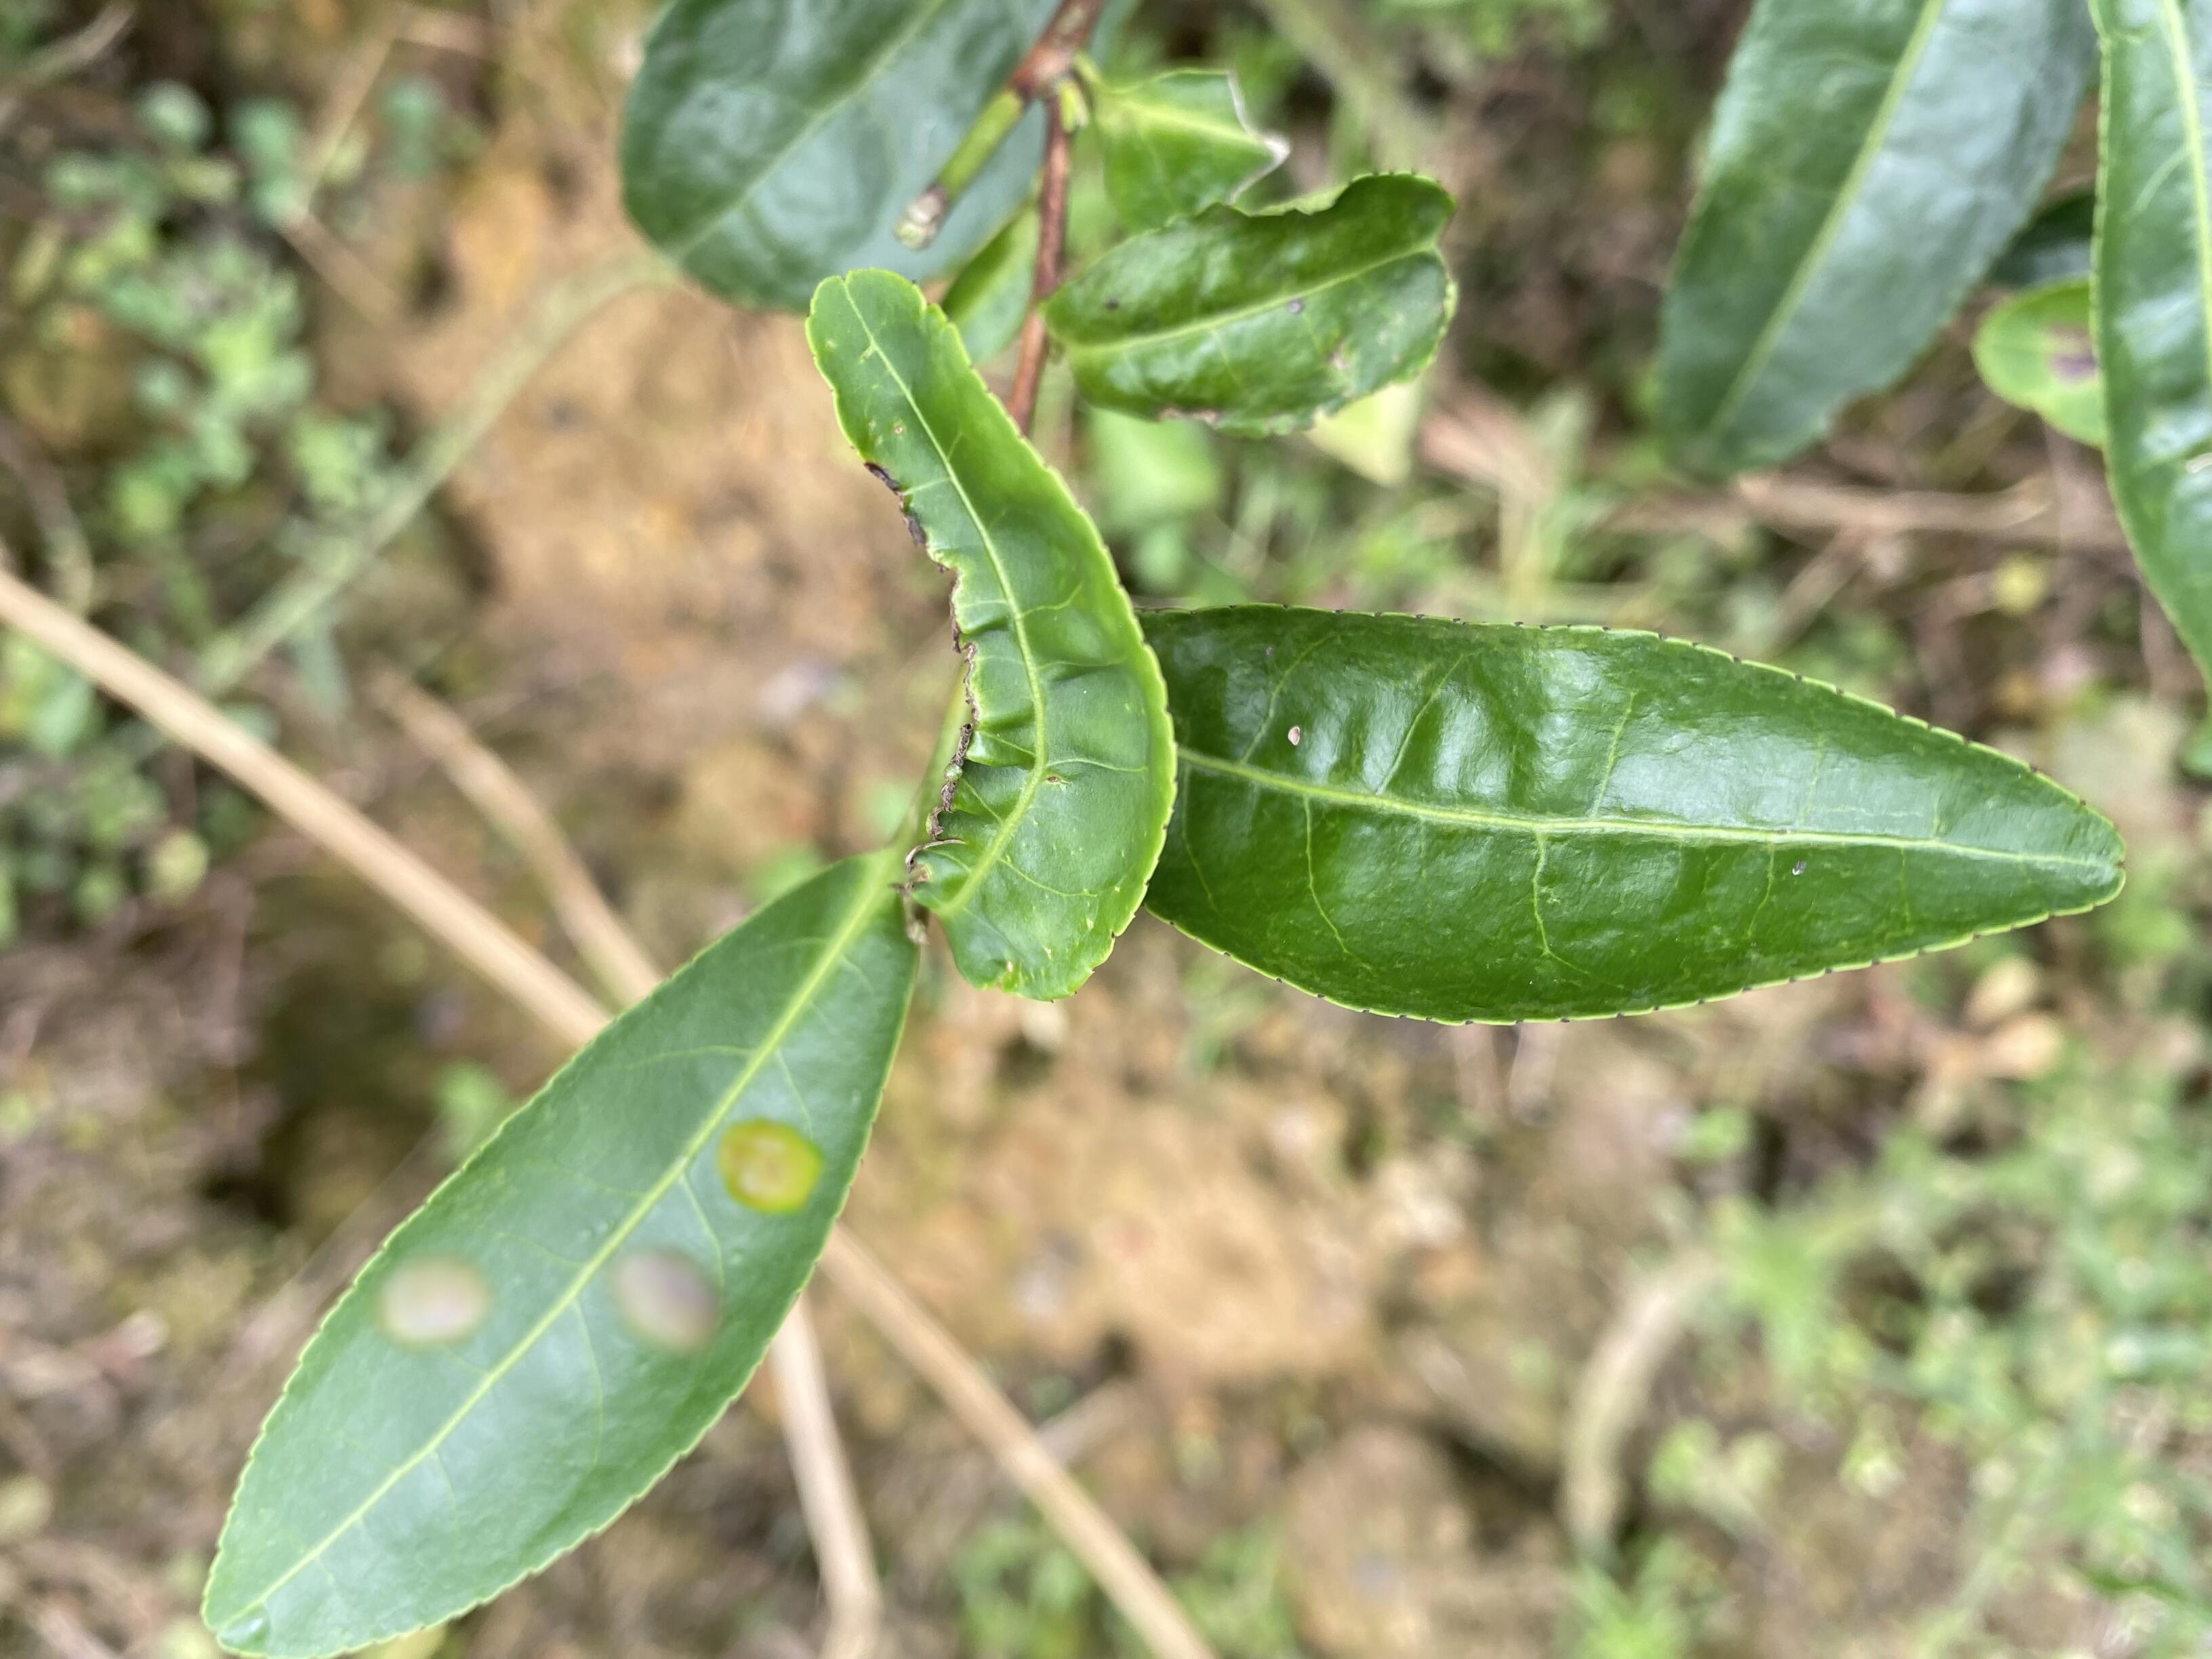chabing_high: (193, 850, 927, 1656)
chihuo_high: (806, 268, 1183, 1004)
tanju_low: (1137, 603, 2127, 1032)
